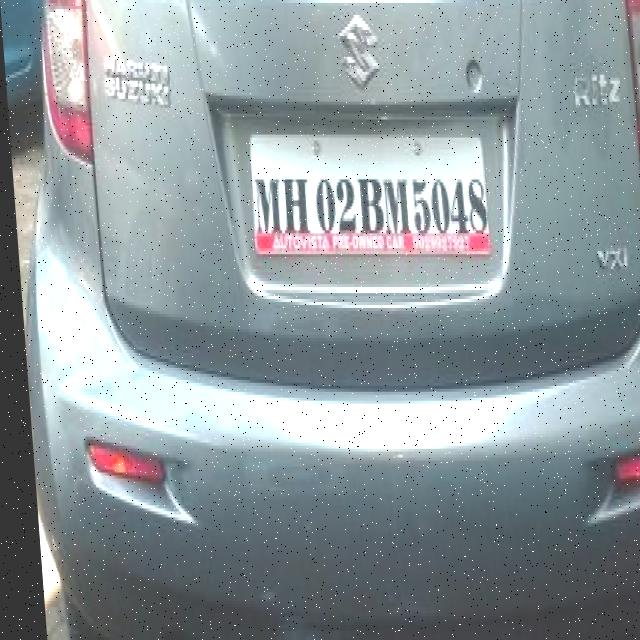plate: (247, 129, 487, 257)
